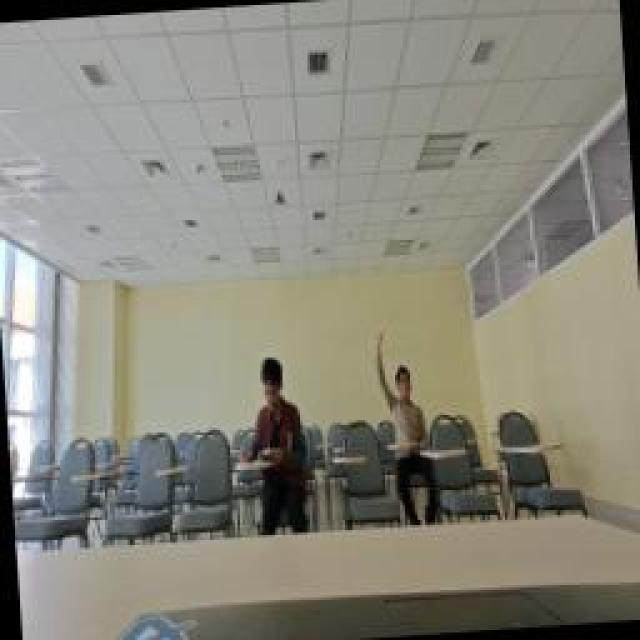study: (232, 355, 308, 463), (372, 325, 430, 453)
